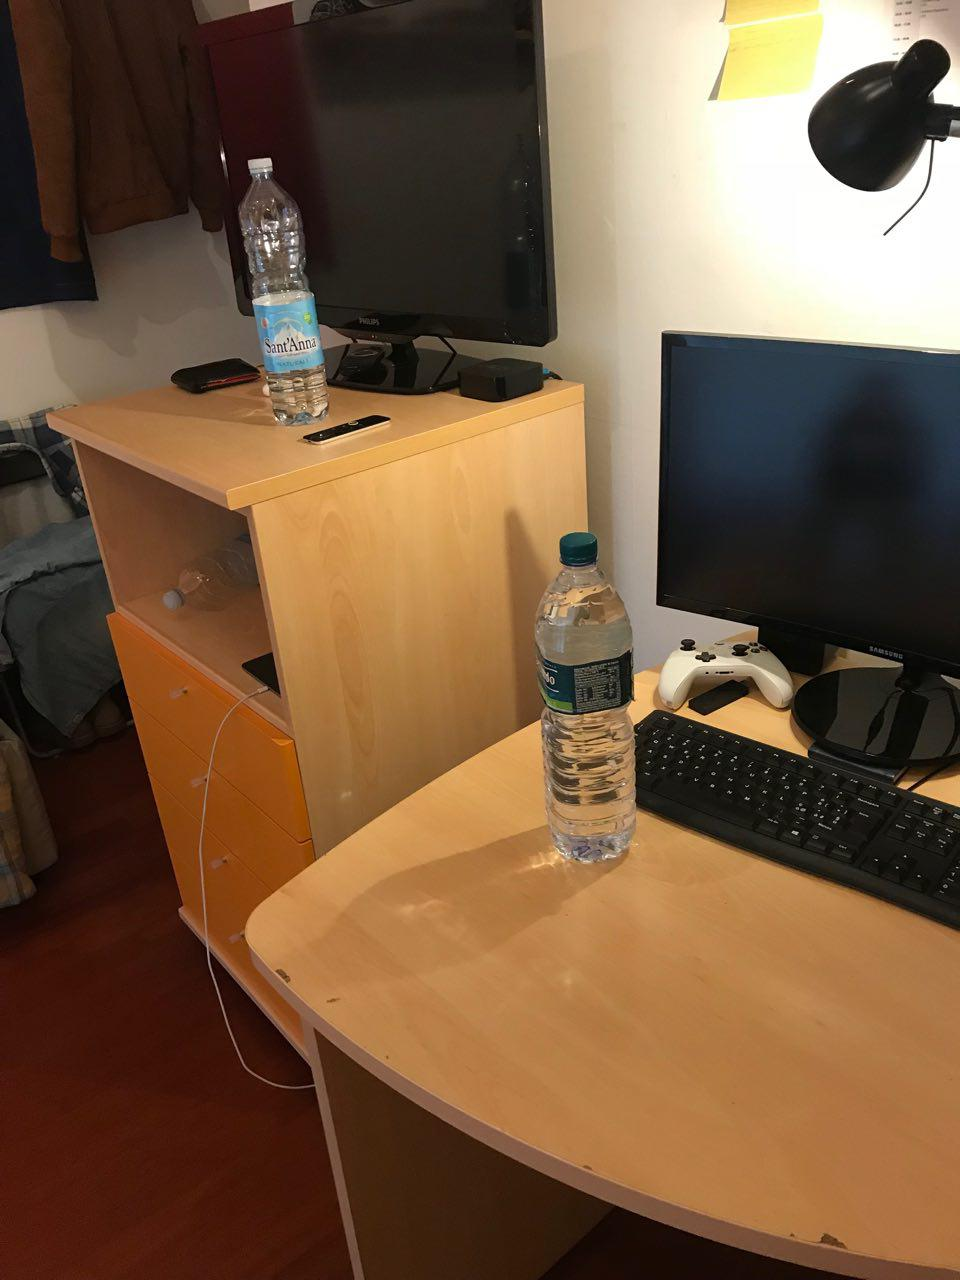san_bernardo: (533, 531, 638, 865)
